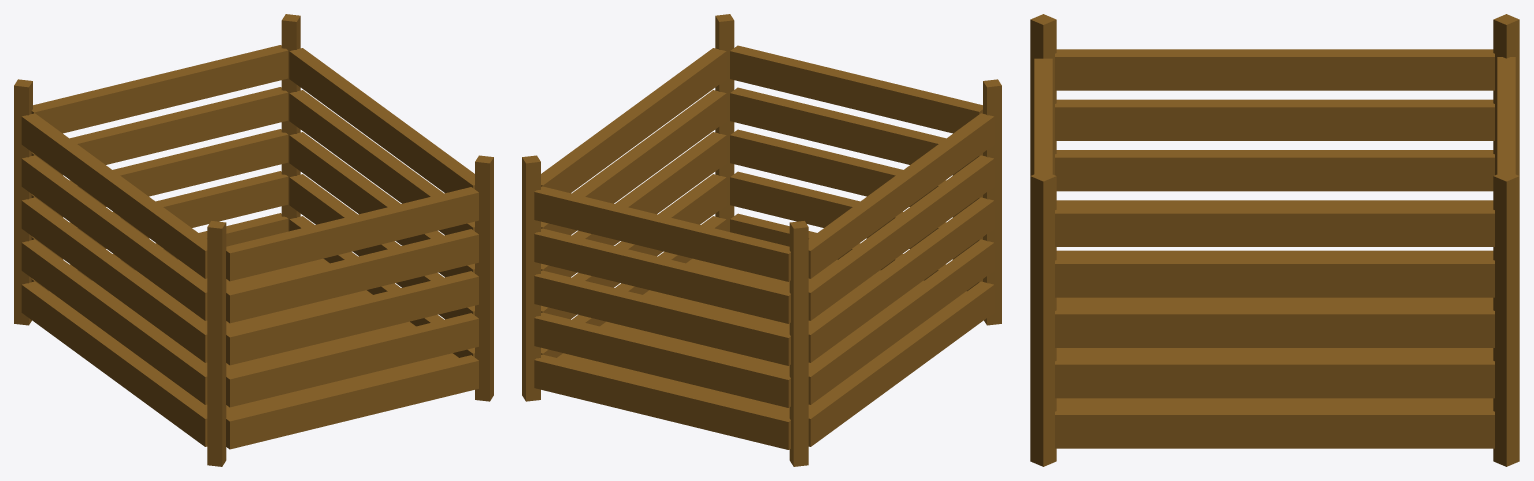
The model's file is fruit_box.fbx.
3 views of the same model, side by side, from view 1: azimuth 30°, elevation 25°; view 2: azimuth 150°, elevation 25°; view 3: azimuth 270°, elevation 25° (orthographic). The views are drawn at different scales.
Parts seen in each view (by area): view 1: Rs, Fs, Ls, Bs, Boden, Eck.004, Eck.002, Eck.003, Eck.001; view 2: Ls, Fs, Rs, Bs, Boden, Eck.003, Eck.001, Eck.004, Eck.002; view 3: Bs, Fs, Boden, Eck.002, Eck.001, Ls, Rs, Eck.004, Eck.003.
Part boxes in pixels (box(x1,y1,x2,y2)): Rs: box(226, 187, 478, 449); Fs: box(21, 113, 207, 446); Ls: box(31, 45, 288, 291); Bs: box(289, 48, 474, 357); Boden: box(49, 258, 458, 414); Eck.004: box(207, 221, 226, 466); Eck.002: box(475, 155, 493, 401); Eck.003: box(14, 79, 32, 325); Eck.001: box(281, 14, 300, 231); Ls: box(534, 186, 790, 449); Fs: box(808, 113, 994, 446); Rs: box(730, 45, 982, 291); Bs: box(541, 48, 726, 357); Boden: box(557, 258, 966, 414); Eck.003: box(789, 221, 808, 466); Eck.001: box(522, 155, 540, 401); Eck.004: box(983, 79, 1001, 325); Eck.002: box(715, 14, 734, 231); Bs: box(1055, 205, 1494, 448); Fs: box(1055, 49, 1494, 255); Boden: box(1056, 297, 1493, 407); Eck.002: box(1030, 170, 1056, 466); Eck.001: box(1493, 170, 1519, 466); Ls: box(1497, 57, 1515, 174); Rs: box(1034, 58, 1052, 174); Eck.004: box(1030, 14, 1056, 175); Eck.003: box(1493, 14, 1519, 175).
Bounding box in the file's own units: 42.83 × 34 × 52.83.
